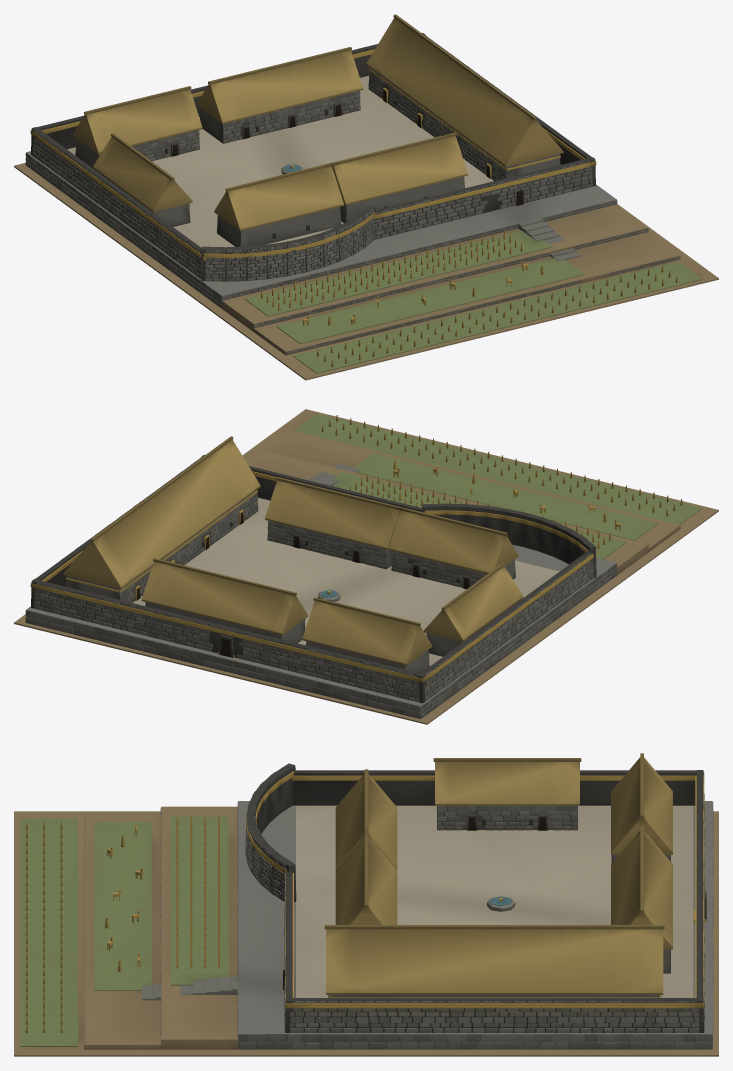
File: coricancha.glb
3 renders of one model, top to bottom at view 1: azimuth 30°, elevation 25°; view 2: azimuth 150°, elevation 25°; view 3: azimuth 270°, elevation 25°, orthographic. The views are drawn at different scales.
Parts seen in each view (by area): view 1: p0_platform, p2_roofs, p1_walls; view 2: p2_roofs, p1_walls, p0_platform; view 3: p0_platform, p1_walls, p2_roofs.
Part boxes in pixels (x1,y1,x2,y2): p0_platform: [14, 75, 718, 380]; p2_roofs: [30, 14, 677, 366]; p1_walls: [31, 33, 595, 281]; p2_roofs: [30, 415, 682, 682]; p1_walls: [31, 455, 596, 703]; p0_platform: [14, 409, 718, 724]; p0_platform: [14, 801, 718, 1056]; p1_walls: [245, 763, 706, 1032]; p2_roofs: [25, 753, 705, 1032].
Bounding box in the file's own units: 90 × 16.95 × 110.
